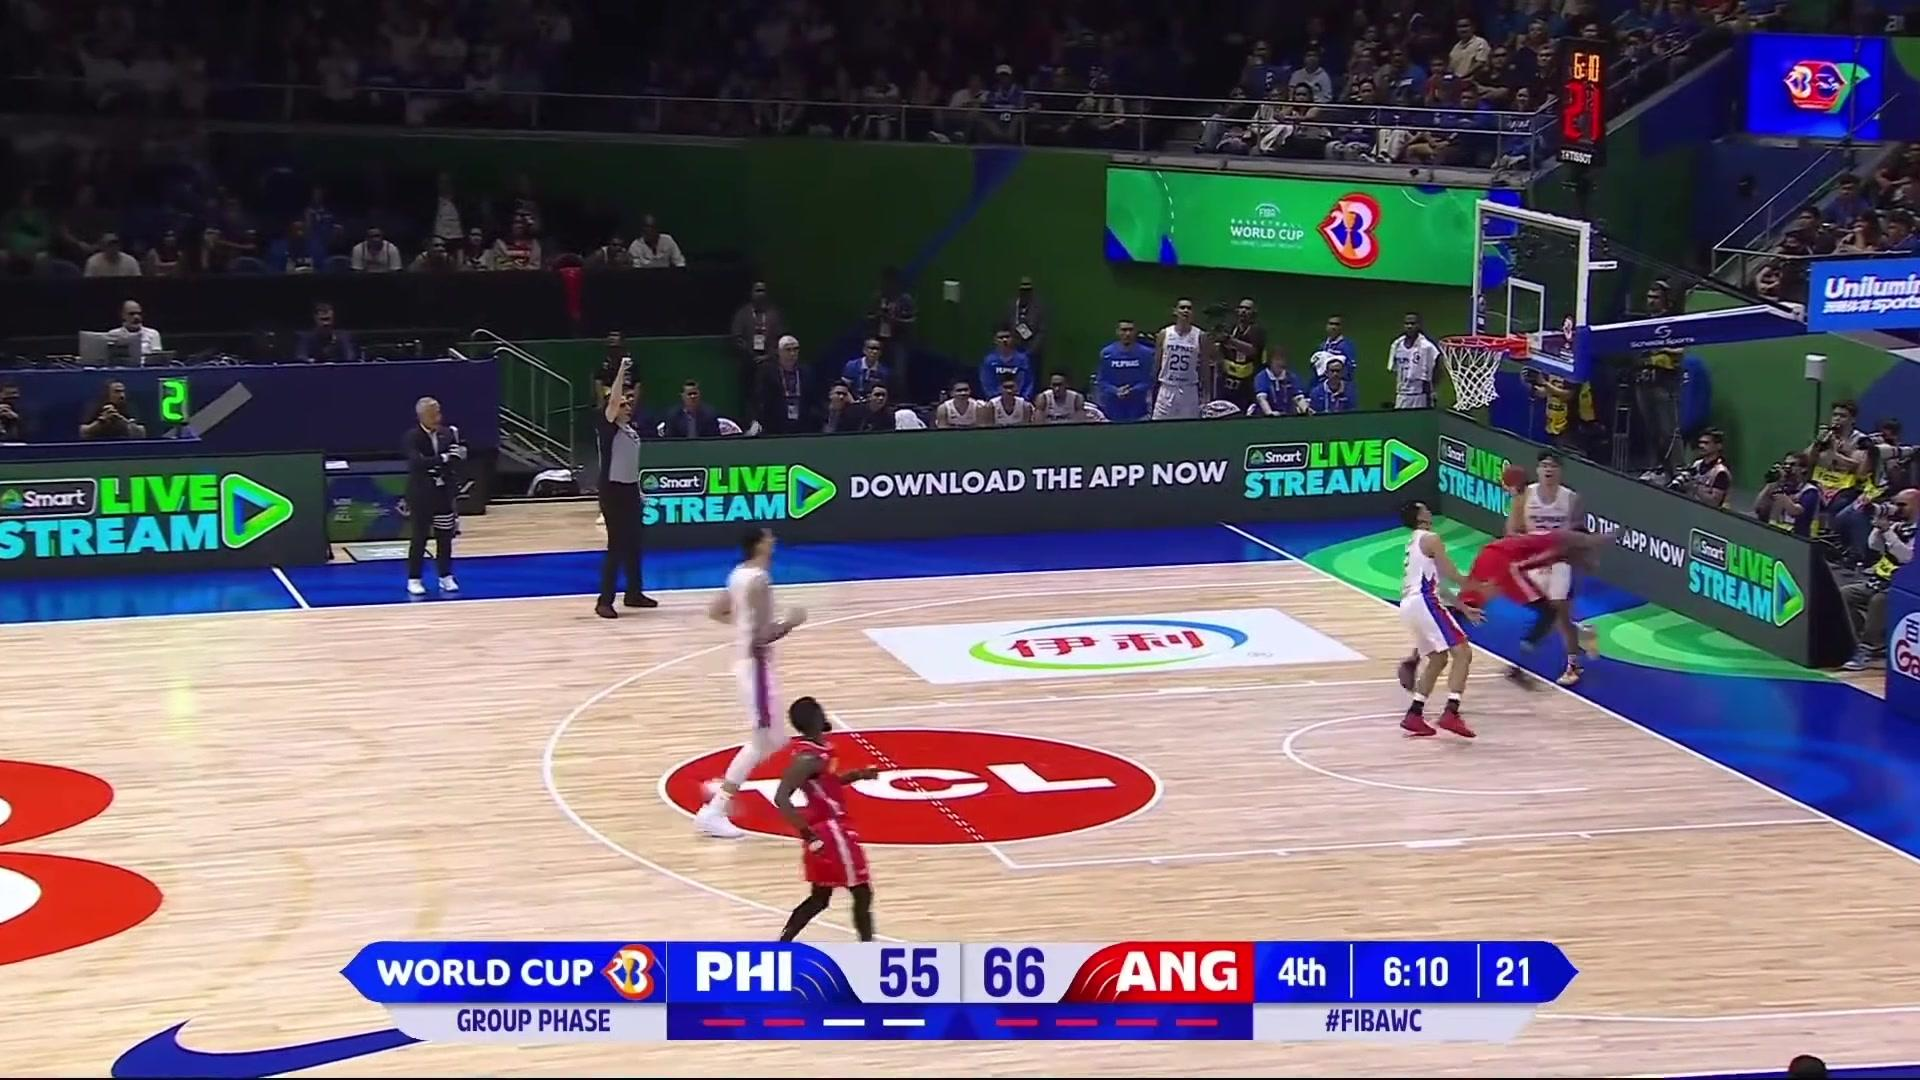foul: (1360, 467, 1614, 758)
